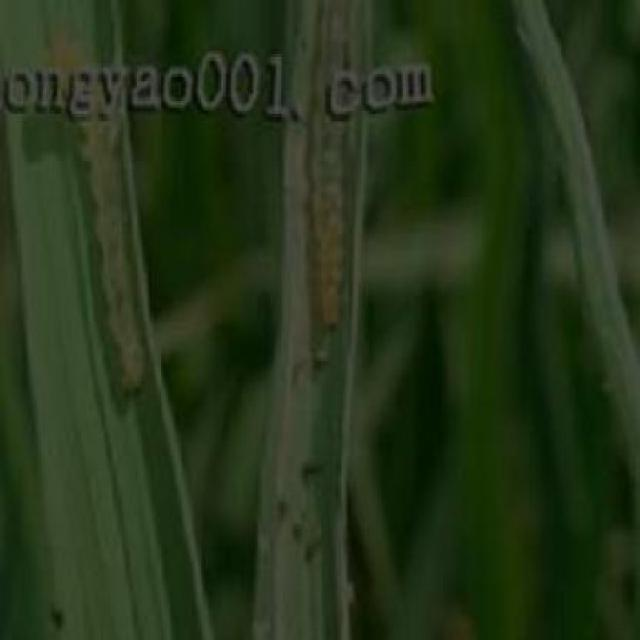leaf-folder: (63, 136, 168, 422), (283, 142, 369, 338)
